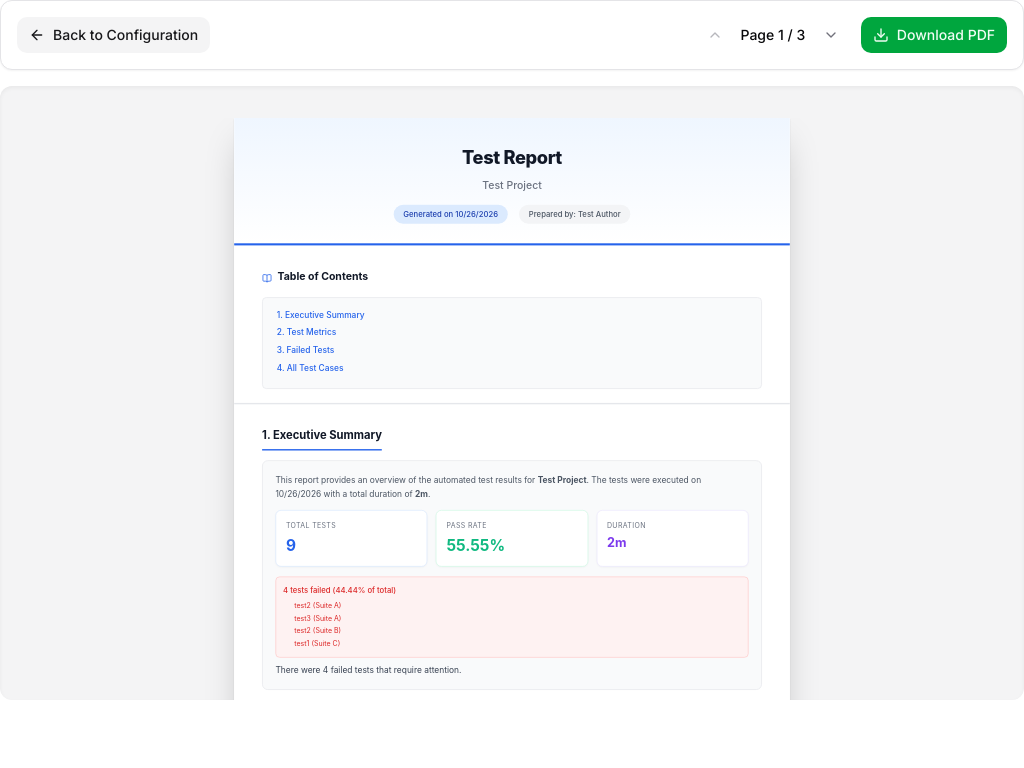
Test: ReportPreview › multi-page navigation › should advance and retreat pages via the Previous/Next buttons
This screenshot has width=1024, height=768.
Expected: the text "Page 1 / 3" is shown, [740,26,805,43]
Expected: the button named "Previous page" is disabled, [701,21,729,49]
Click the button named "Next page" at (831, 35), box [817,21,845,49]
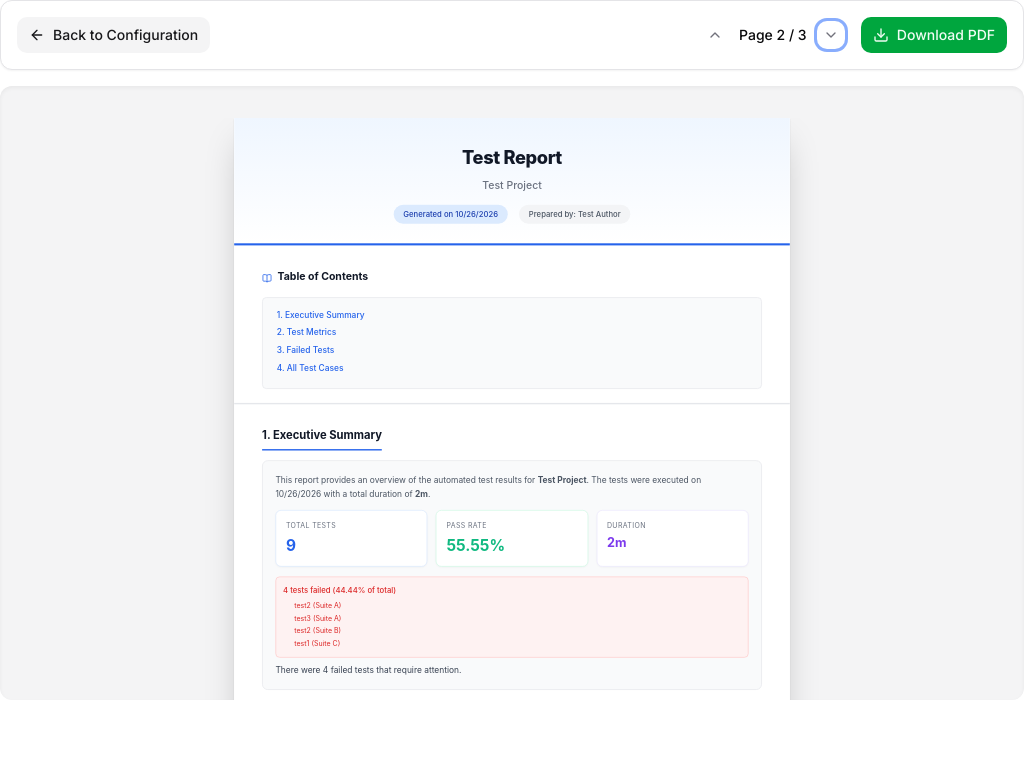
Result: the text "Page 2 / 3" is shown at [739,26,807,43]
Click the button named "Previous page" at (715, 35), box [701,21,729,49]
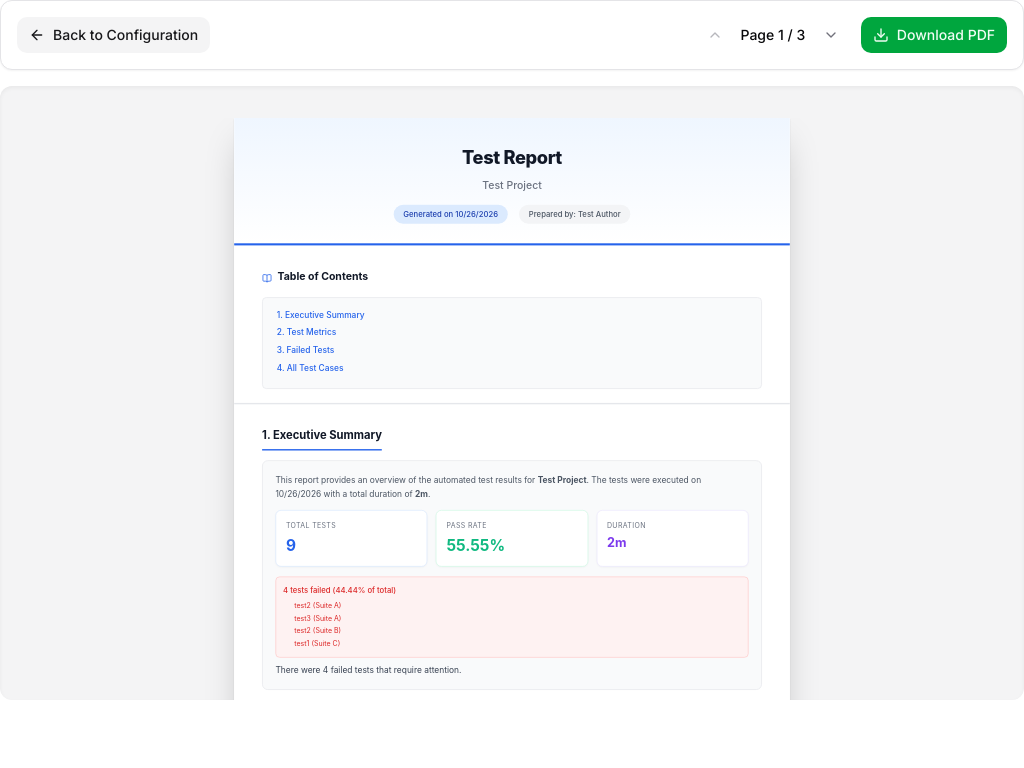
Result: the text "Page 1 / 3" is shown at [740,26,805,43]
